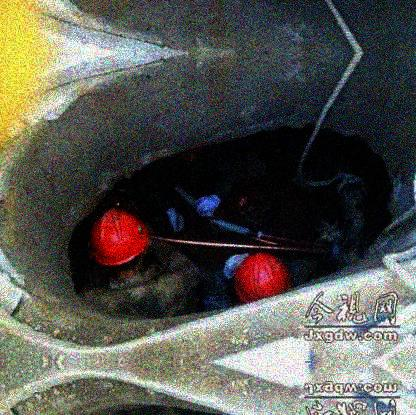helmet: (88, 208, 155, 280), (179, 146, 204, 166)
